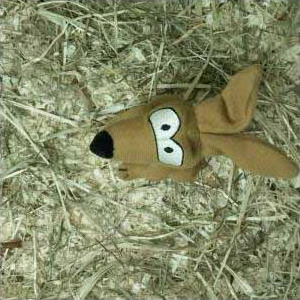dog: (89, 63, 300, 185)
